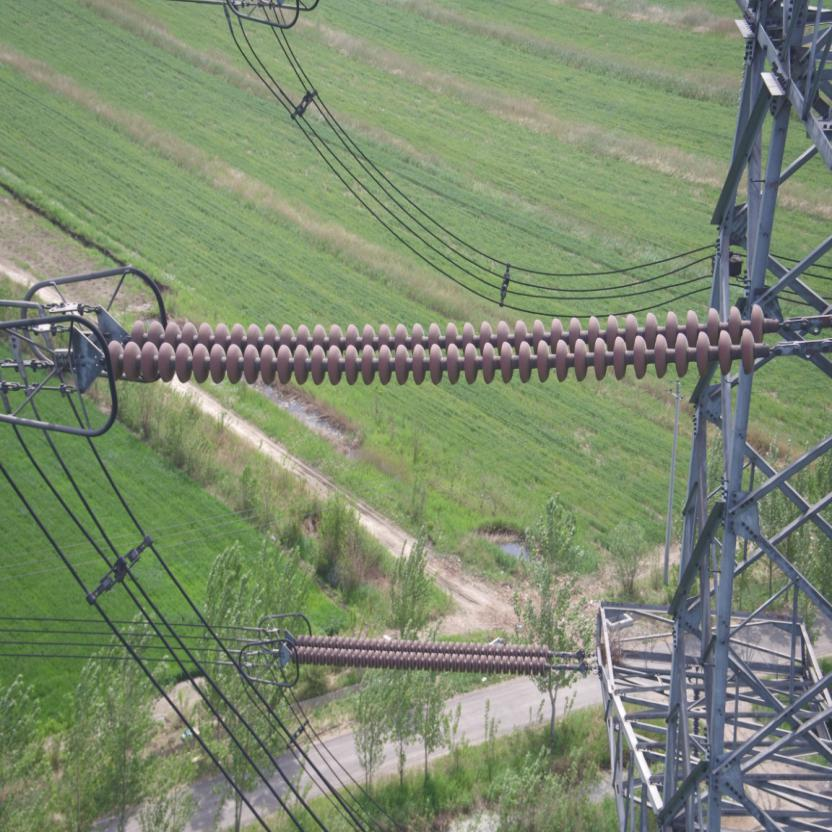insulator: (82, 300, 830, 384), (282, 630, 578, 676)
